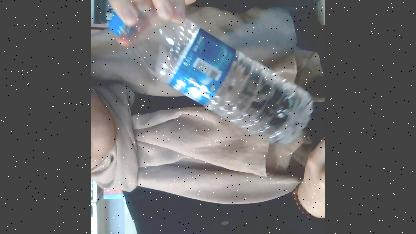Plastic Bottle: (106, 5, 312, 153)
